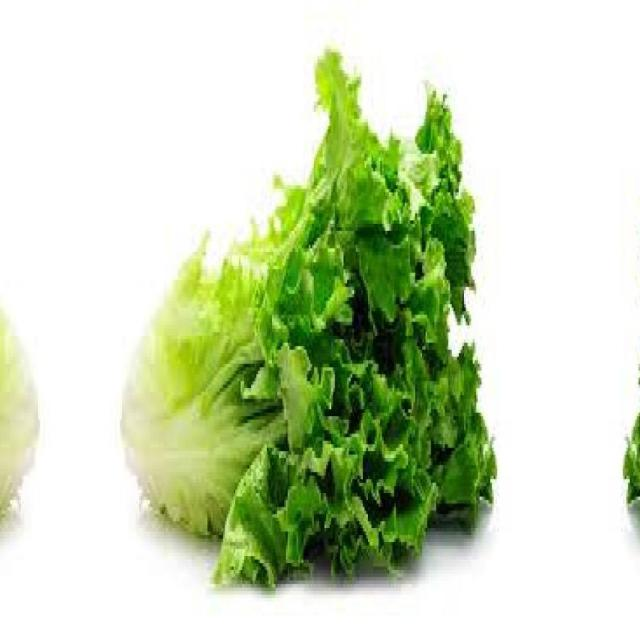healthy: (122, 60, 496, 590), (0, 60, 38, 590), (624, 60, 640, 590)
